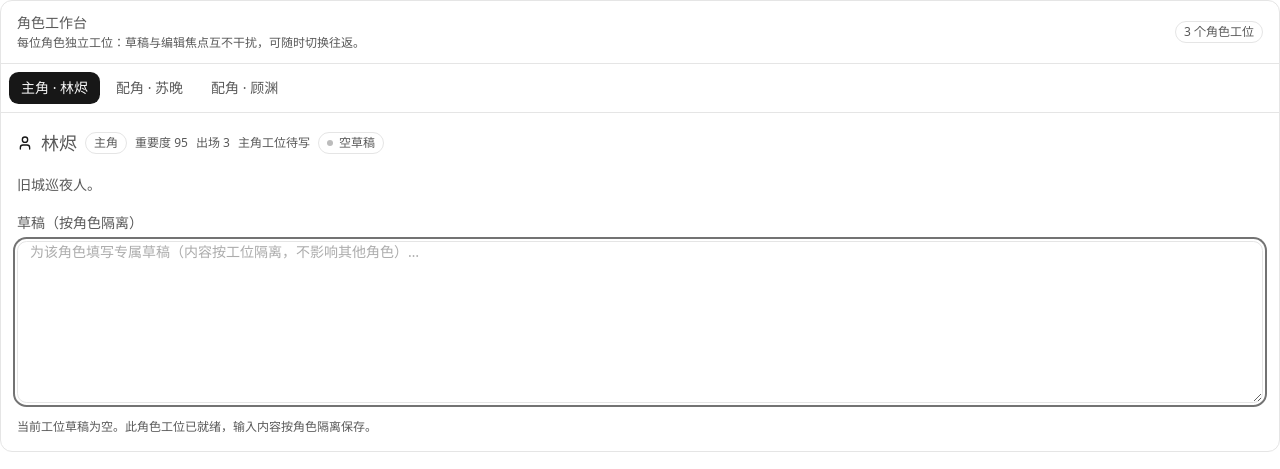
it: CharacterWorkstationView · 分位切换隔离性 › 非受控：编辑焦点隔离（key 重建）—— 切回角色后 textarea 全新挂载
Note:  切走 → 切回
Click the tab with test id "workstation-tab-char-gu".
click(245, 88)  # box left=199, top=72, right=290, bottom=104
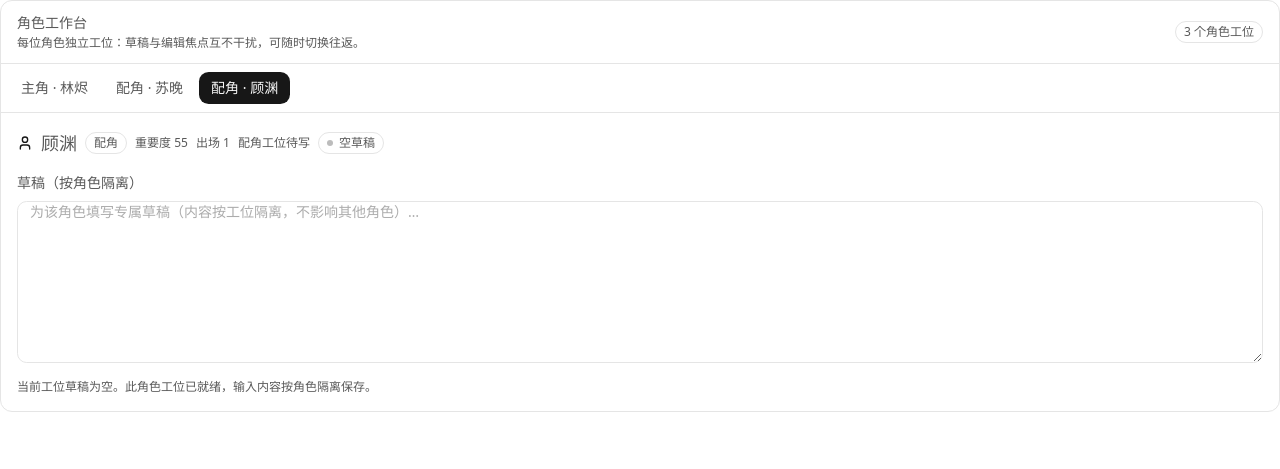
Click the tab with test id "workstation-tab-char-linjing".
click(54, 88)  # box left=9, top=72, right=100, bottom=104
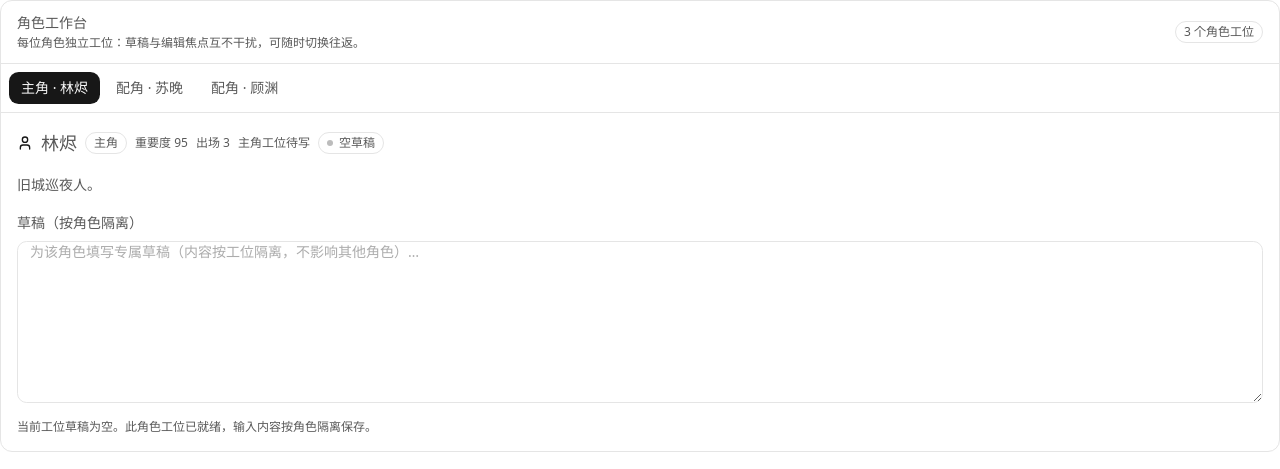
Check: the text box with test id "station-draft-char-linjing" is shown, box left=17, top=241, right=1263, bottom=403
